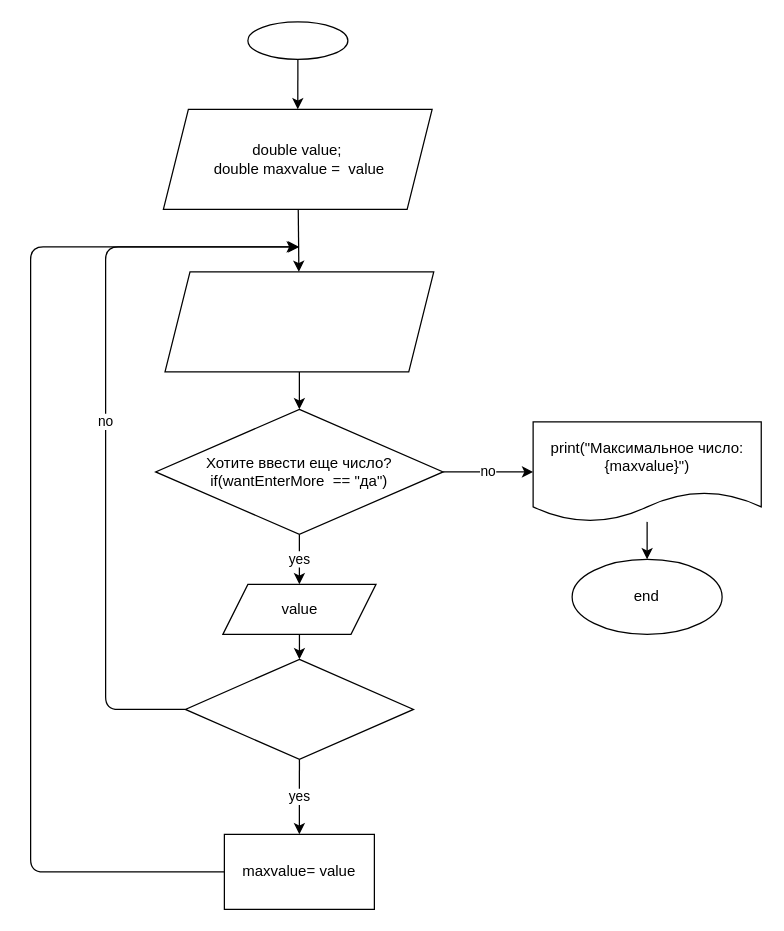
This 784x931 diagram has some shape labels left out. The shapes that lost their labels are listed below. From the top down, each one's centre as x and y in pixels, then its label:
point 297,40: Start
point 299,321: string wantEnterMore;
point 299,708: if(value>maxvalue)
